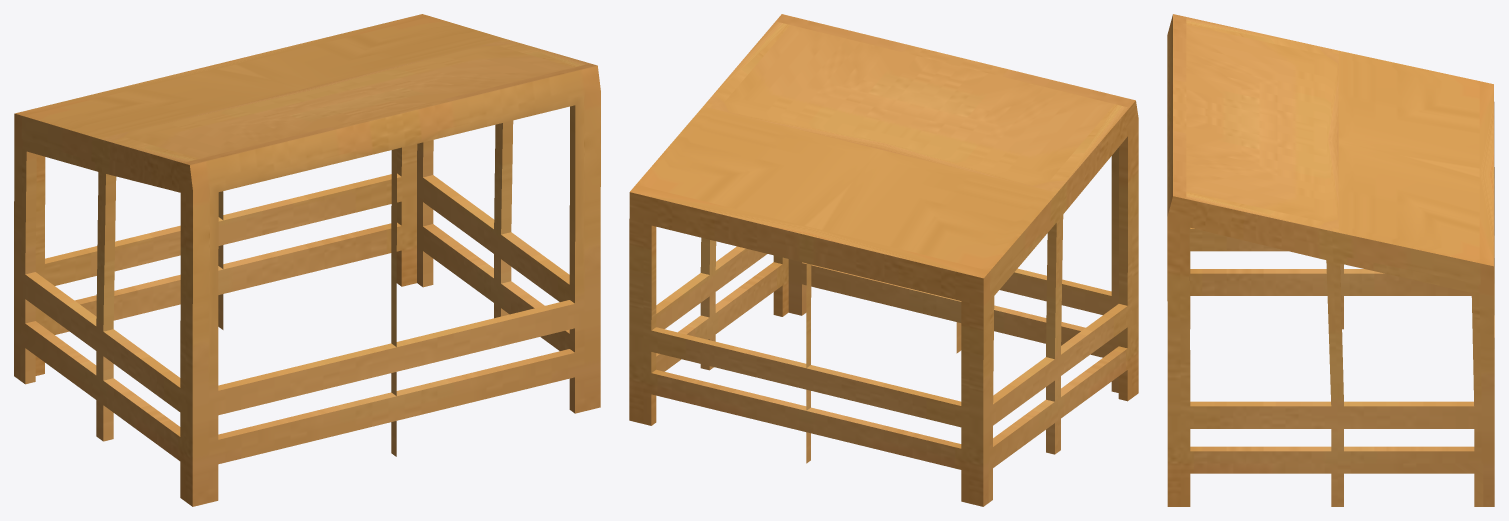
The picture shows the model from 3 angles, left to right: view 1: azimuth 30°, elevation 25°; view 2: azimuth 150°, elevation 25°; view 3: azimuth 270°, elevation 25°; orthographic projection. The views are drawn at different scales.
Visible parts, largest first — view 1: 立方体, 立方体_2; view 2: 立方体, 立方体_2; view 3: 立方体, 立方体_2.
Boxes of the visible parts, x1,y1,x2,y2 form: 立方体: [14, 14, 600, 506]; 立方体_2: [25, 105, 575, 456]; 立方体: [629, 14, 1138, 506]; 立方体_2: [651, 136, 1127, 463]; 立方体: [1167, 14, 1494, 506]; 立方体_2: [1189, 178, 1494, 451].
Size of the model in its own units: 1498 by 1192 by 1138.
1 material, 1 textured.
